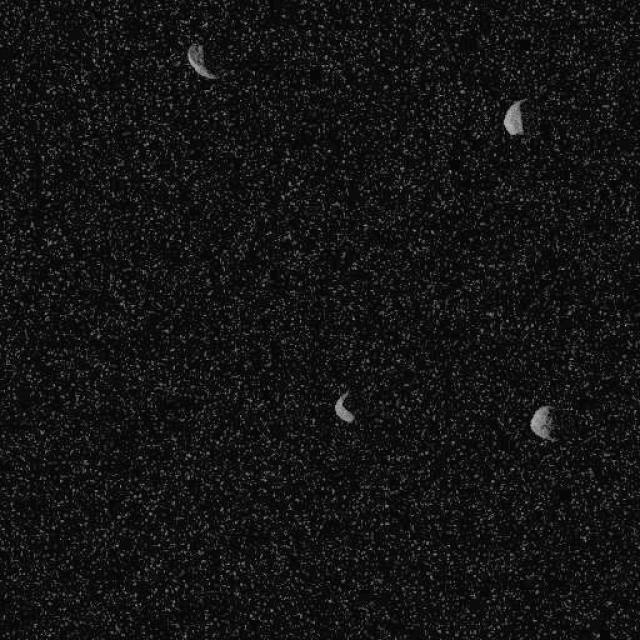D2: (185, 41, 217, 80), (528, 404, 558, 441), (502, 97, 526, 135), (333, 388, 355, 424)
